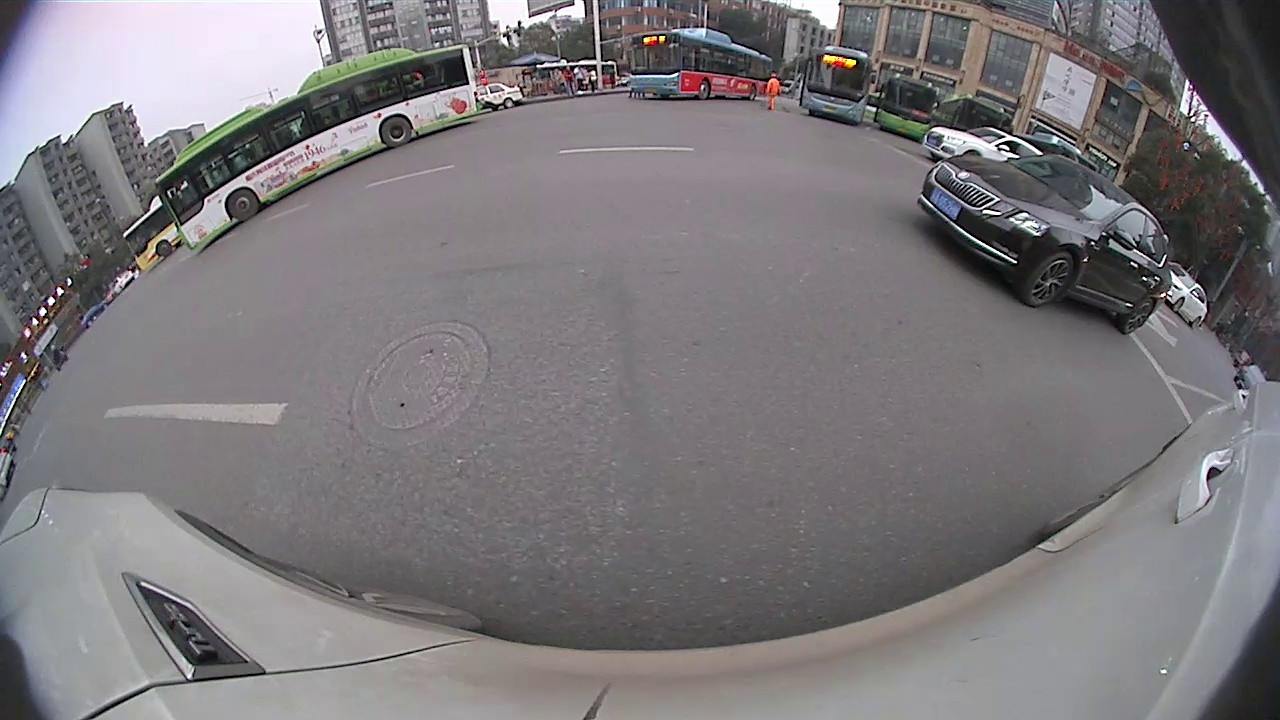bus: (154, 43, 481, 257), (625, 27, 772, 102), (799, 44, 873, 125), (120, 201, 184, 275), (876, 75, 937, 141)
car: (920, 126, 1047, 166), (1161, 262, 1208, 331), (475, 82, 524, 109)
front: (1021, 250, 1079, 312), (219, 187, 261, 226), (694, 78, 712, 102)
person: (767, 72, 780, 112)
rear: (1115, 296, 1158, 338), (377, 113, 415, 150)
rider: (917, 153, 1172, 336)
